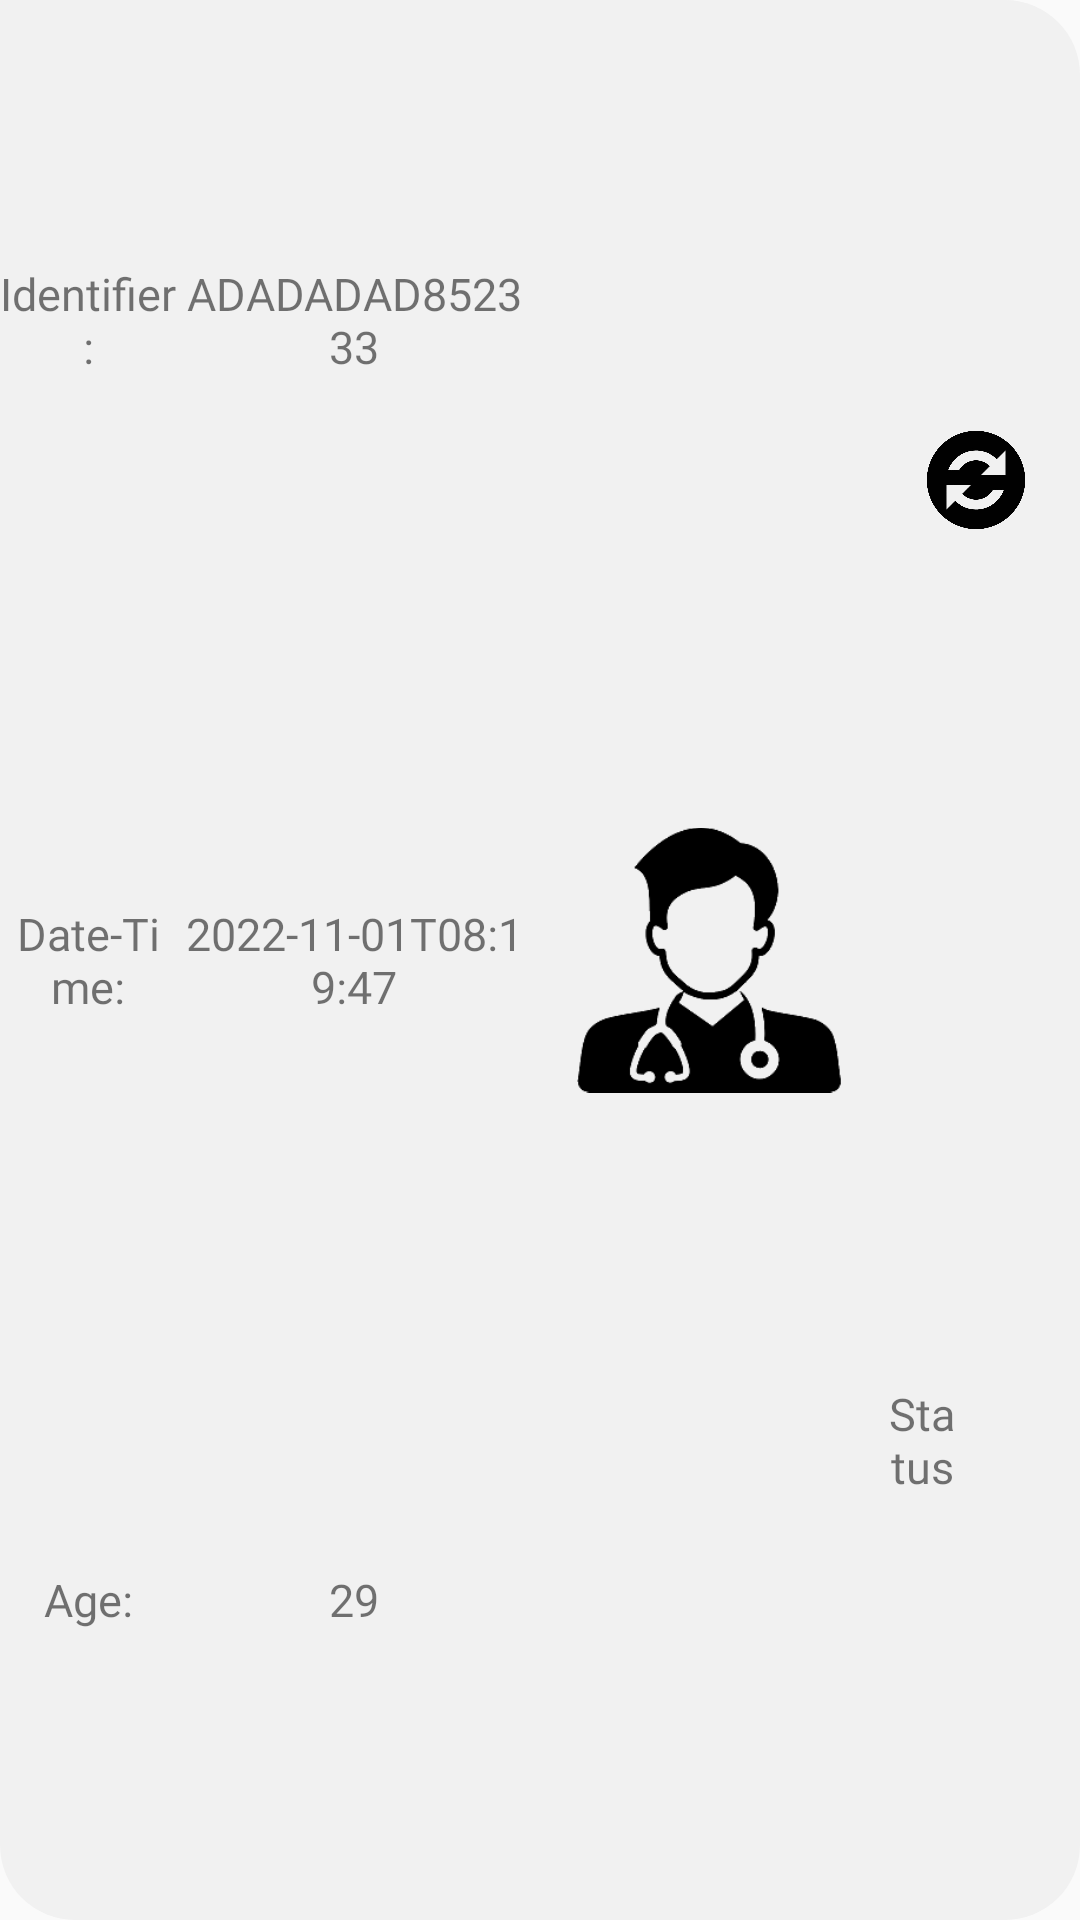

Named icons in this screenshot (1080 × 1920) and their centers, (x,y):
sync: (976,480)
